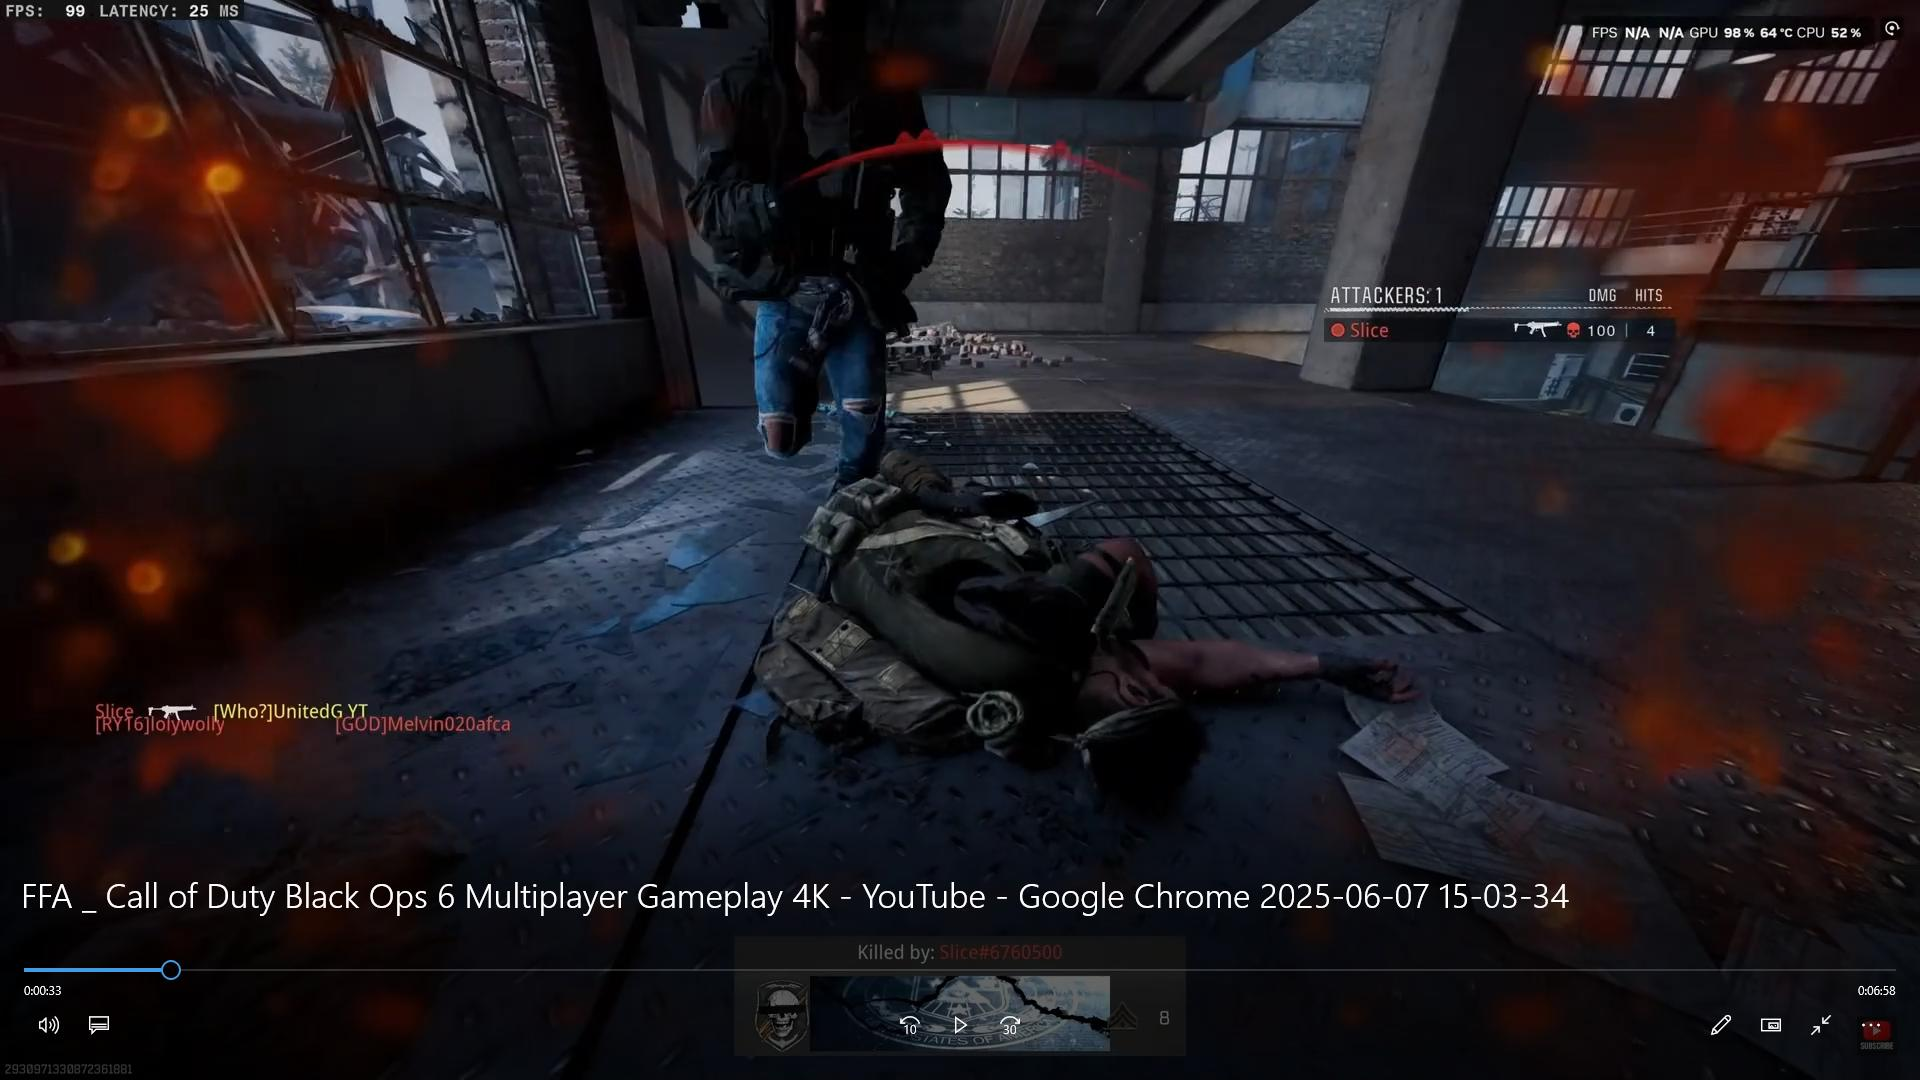Enemy: (741, 0, 918, 491)
